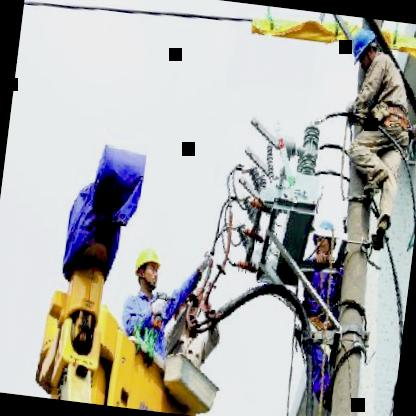helmet: (341, 23, 384, 72), (132, 240, 166, 294), (310, 207, 342, 262)
